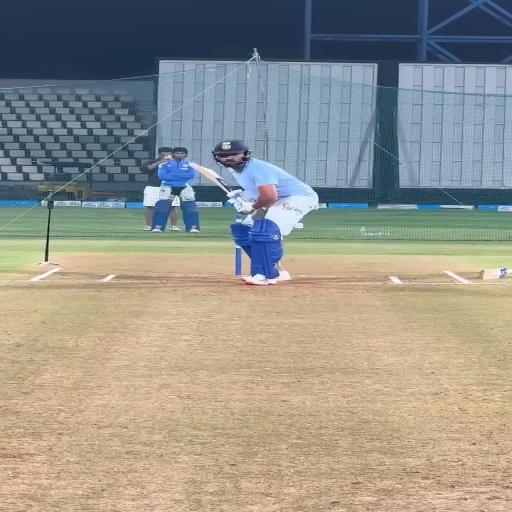Cricket bat: (191, 162, 231, 192)
